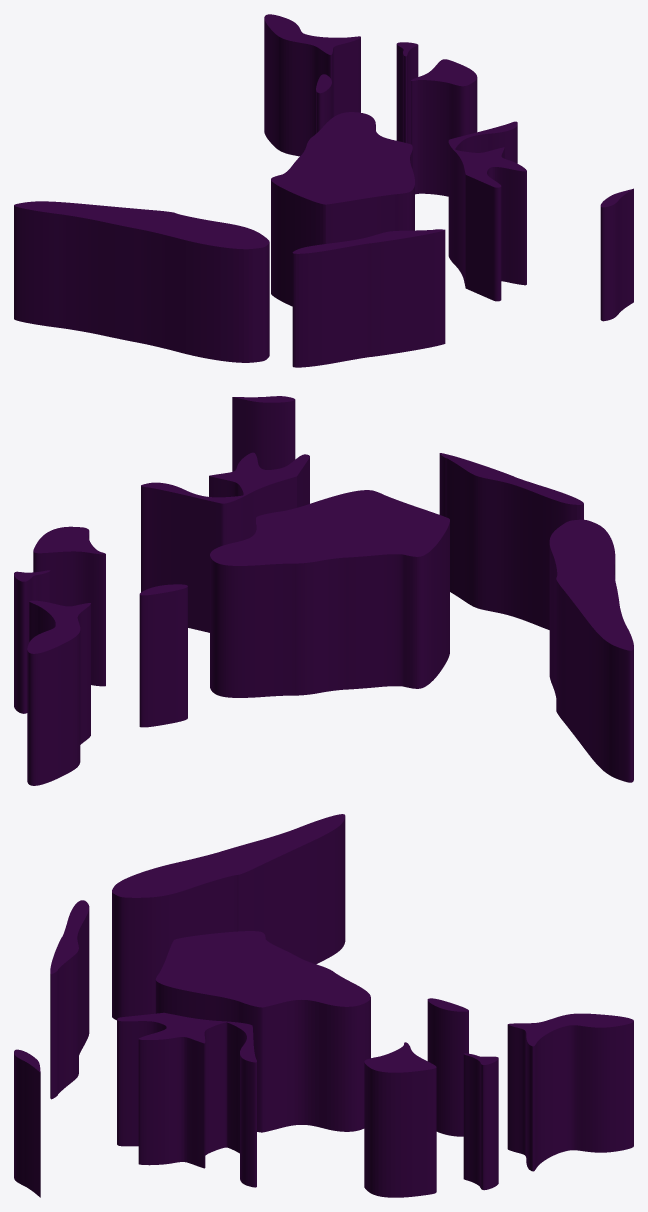
File: Oceania_02.obj
3 renders of one model, top to bottom at view 1: azimuth 30°, elevation 25°; view 2: azimuth 150°, elevation 25°; view 3: azimuth 270°, elevation 25°, orthographic. The views are drawn at different scales.
Parts seen in each view (by area): view 1: Oceania_02_path4292; view 2: Oceania_02_path4292; view 3: Oceania_02_path4292.
Part boxes in pixels (x1=…): Oceania_02_path4292: x1=14, y1=14, x2=633, y2=367; Oceania_02_path4292: x1=14, y1=396, x2=633, y2=785; Oceania_02_path4292: x1=14, y1=814, x2=633, y2=1197.
Size of the model in its own units: 0.4438 by 0.1 by 0.4494.
